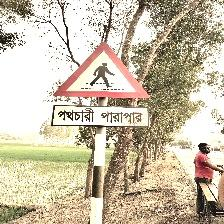Pedestrian-crossing: (52, 43, 151, 130)
